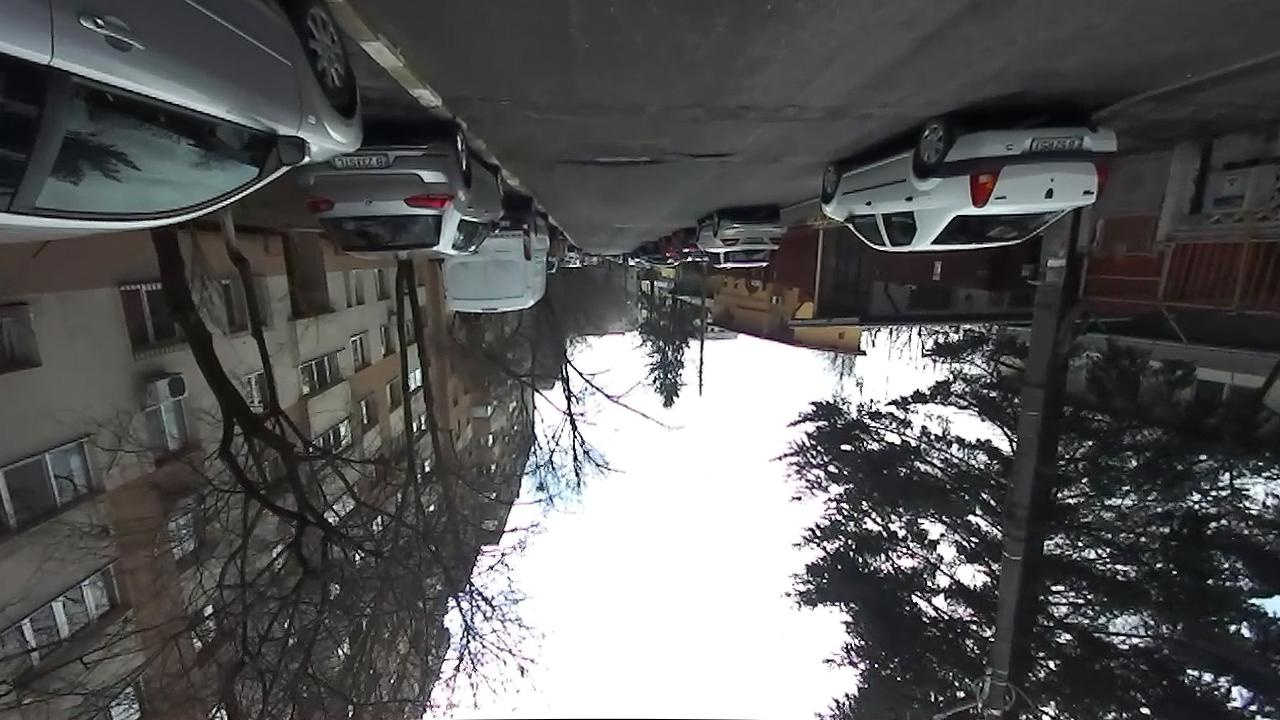pothole: (553, 149, 664, 171), (672, 147, 735, 161)
